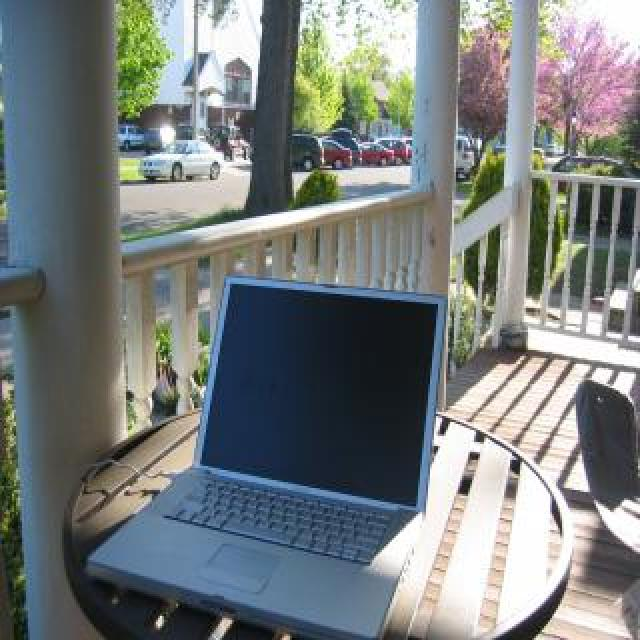laptop_computer: (83, 282, 462, 623)
